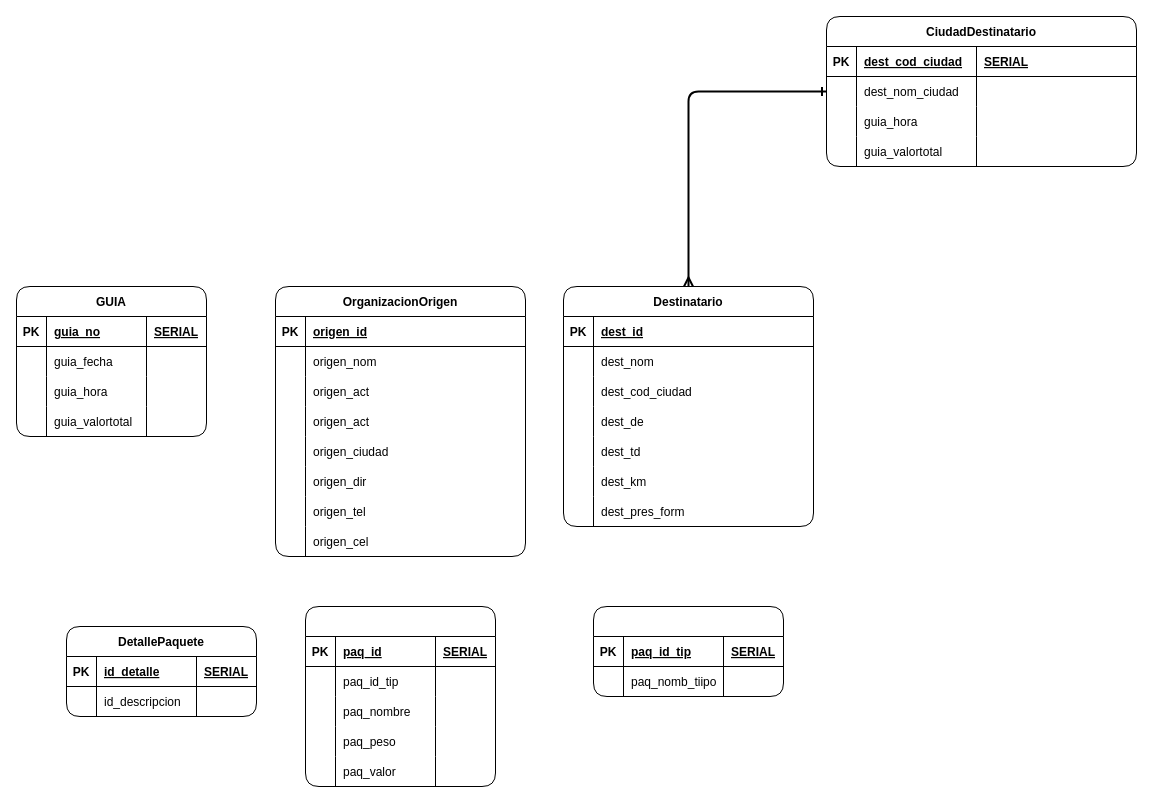
This 1153x803 diagram has some shape labels left out. Here are the shapes that lost their labels. From the top down, the box of each, then its label:
(592, 606, 784, 696): TipoPaquete
(304, 606, 496, 786): Paquete
